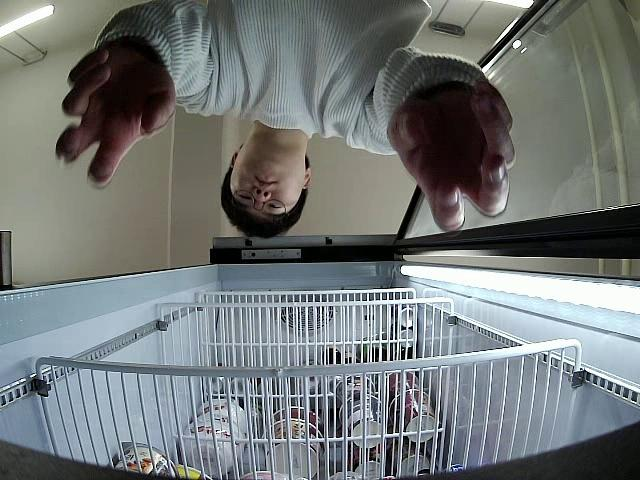00_hand: (386, 77, 515, 233), (55, 48, 176, 191)
